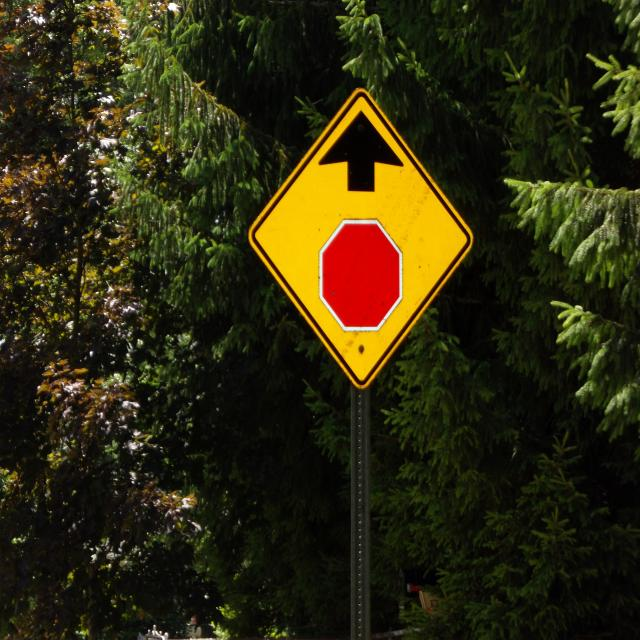stop: (312, 214, 410, 336)
warning: (247, 85, 472, 393)
